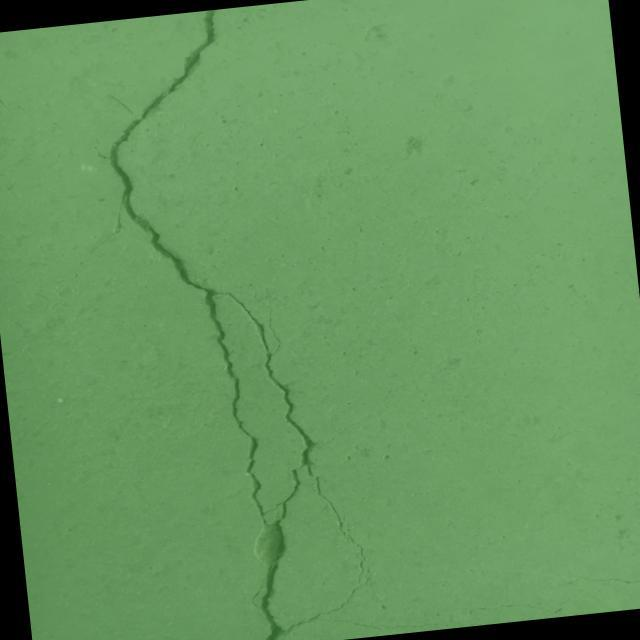crack: (47, 0, 457, 640), (531, 566, 640, 597), (468, 597, 562, 622), (0, 88, 44, 131), (59, 279, 78, 291), (558, 597, 576, 606), (50, 298, 64, 308)
